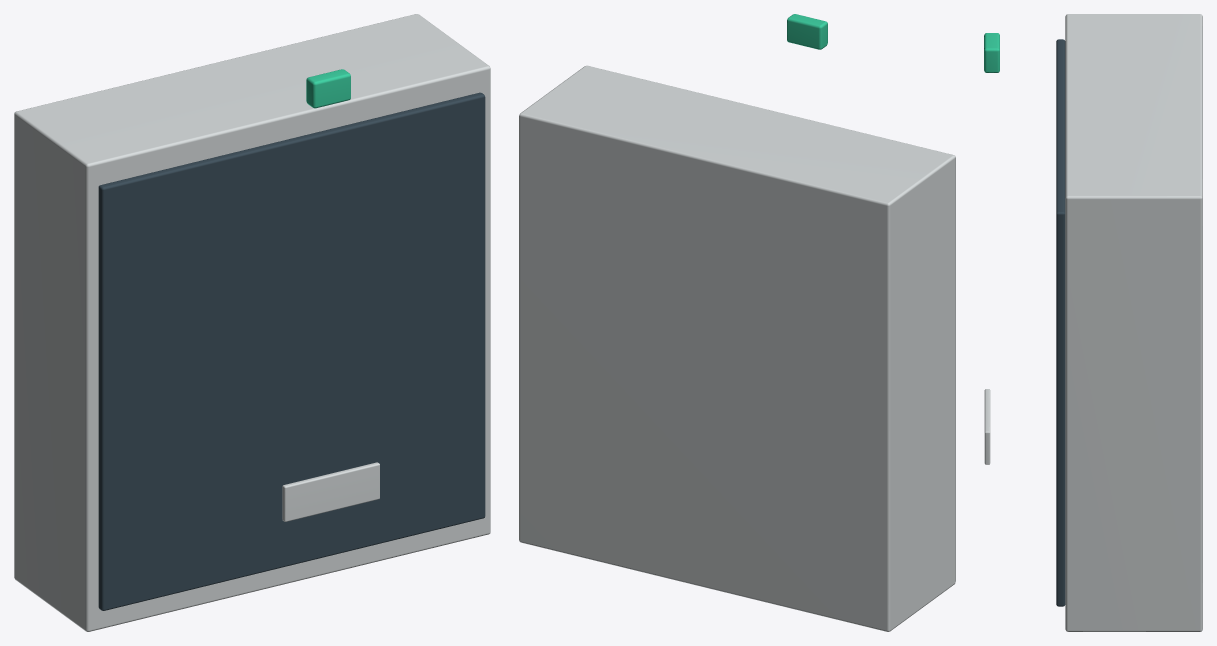
Rendered from Equipment_PDP.fbx.
3 renders of one model, left to right at view 1: azimuth 30°, elevation 25°; view 2: azimuth 150°, elevation 25°; view 3: azimuth 270°, elevation 25°, orthographic. The views are drawn at different scales.
Parts seen in each view (by area): view 1: Doors, Cabinet, BlankNameplate_PDP, StatusLens_PDP; view 2: Cabinet, StatusLens_PDP; view 3: Cabinet, Doors, StatusLens_PDP, BlankNameplate_PDP.
Part boxes in pixels (bbox=[...]): Doors: bbox=[98, 92, 485, 610]; Cabinet: bbox=[14, 14, 490, 631]; BlankNameplate_PDP: bbox=[282, 462, 379, 521]; StatusLens_PDP: bbox=[306, 69, 350, 108]; Cabinet: bbox=[519, 65, 955, 631]; StatusLens_PDP: bbox=[787, 14, 827, 49]; Cabinet: bbox=[1065, 14, 1202, 631]; Doors: bbox=[1056, 39, 1065, 606]; StatusLens_PDP: bbox=[984, 33, 999, 72]; BlankNameplate_PDP: bbox=[984, 389, 990, 464].
Size of the model in its own units: 1.9 by 2.41 by 0.955.
